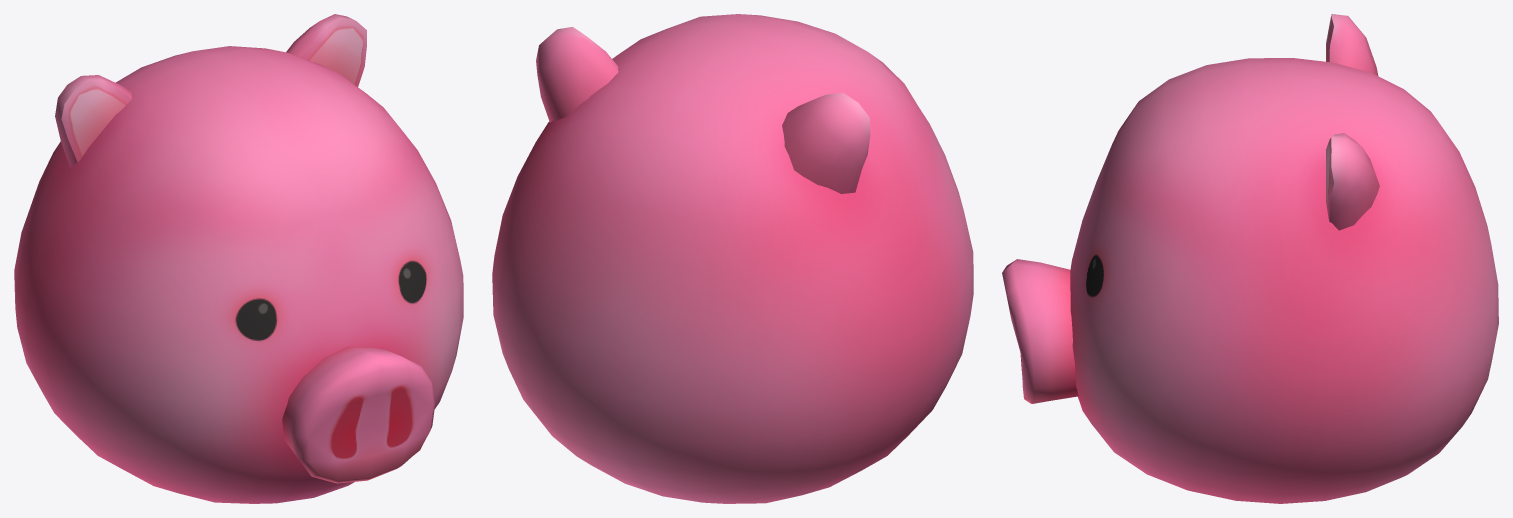
The model's file is CRT0110023.FBX.
3 views of the same model, side by side, from view 1: azimuth 30°, elevation 25°; view 2: azimuth 150°, elevation 25°; view 3: azimuth 270°, elevation 25° (orthographic). The views are drawn at different scales.
Visible parts, largest first — view 1: smCRT0110023; view 2: smCRT0110023; view 3: smCRT0110023.
Boxes of the visible parts, bbox=[...] form: smCRT0110023: bbox=[14, 14, 463, 503]; smCRT0110023: bbox=[492, 14, 973, 503]; smCRT0110023: bbox=[1002, 14, 1498, 503].
Size of the model in its own units: 0.1582 by 0.1591 by 0.1783.
Materials: 1 (1 with a texture image).
